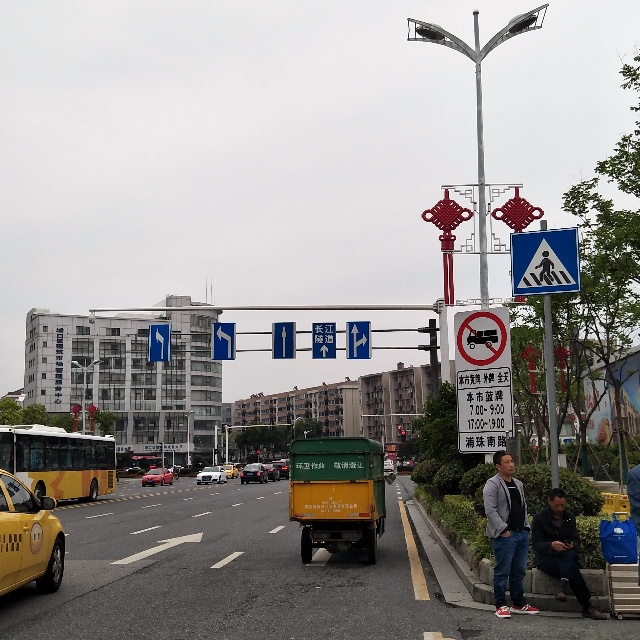left: (212, 327, 238, 363), (150, 323, 170, 358)
straight: (276, 323, 292, 356)
